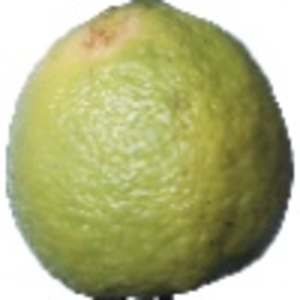limão: (6, 1, 295, 300)
